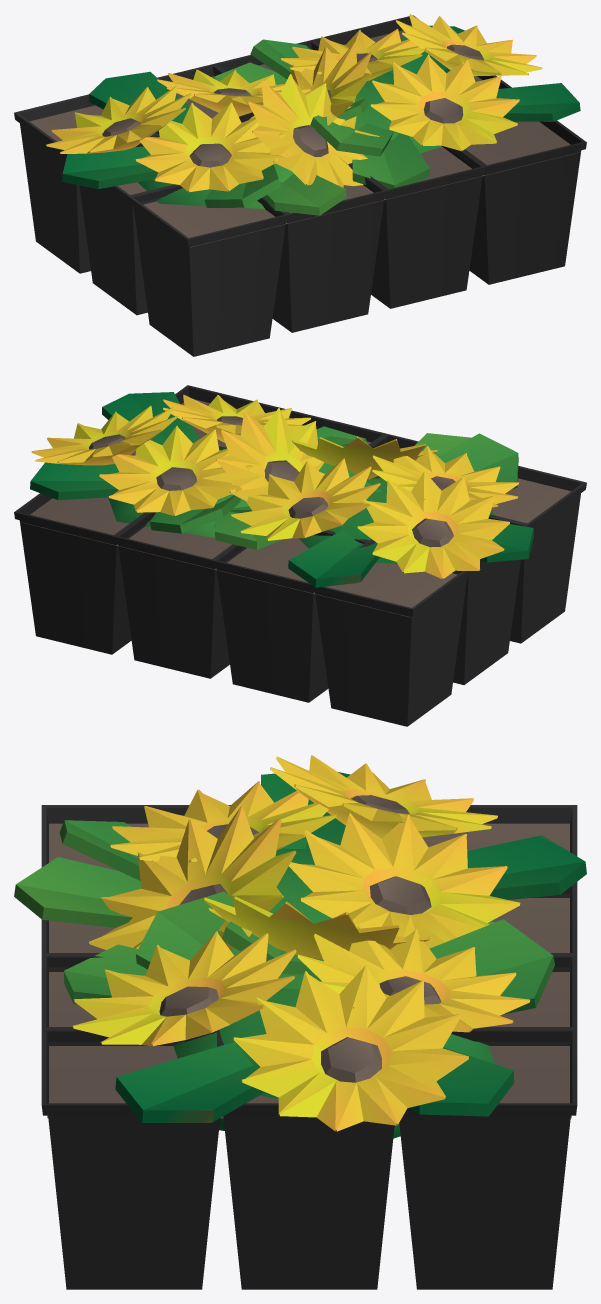
Rendered from FlowerBedYellow.fbx.
3 renders of one model, top to bottom at view 1: azimuth 30°, elevation 25°; view 2: azimuth 150°, elevation 25°; view 3: azimuth 270°, elevation 25°, orthographic. The views are drawn at different scales.
Visible parts, largest first — view 1: FlowerBedYellow; view 2: FlowerBedYellow; view 3: FlowerBedYellow.
Boxes of the visible parts, box(x1,y1,x2,y2) form: FlowerBedYellow: box(14, 14, 586, 356); FlowerBedYellow: box(14, 385, 586, 726); FlowerBedYellow: box(14, 755, 586, 1289).
Size of the model in its own units: 0.5283 by 0.2026 by 0.3556.
